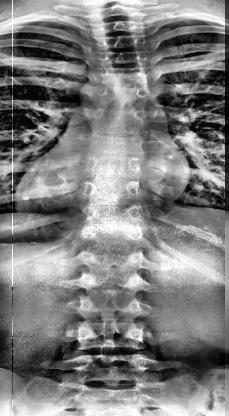Vertebrae: (73, 381, 157, 415), (74, 353, 152, 387), (73, 318, 149, 352), (75, 290, 145, 322), (74, 267, 144, 297), (77, 245, 146, 274), (80, 225, 146, 253), (82, 180, 150, 206), (92, 62, 154, 88), (82, 204, 148, 228), (84, 156, 144, 182), (92, 84, 150, 110), (90, 106, 148, 132), (84, 16, 150, 38), (87, 132, 146, 156), (93, 48, 153, 70), (90, 32, 150, 53), (82, 5, 146, 23)
